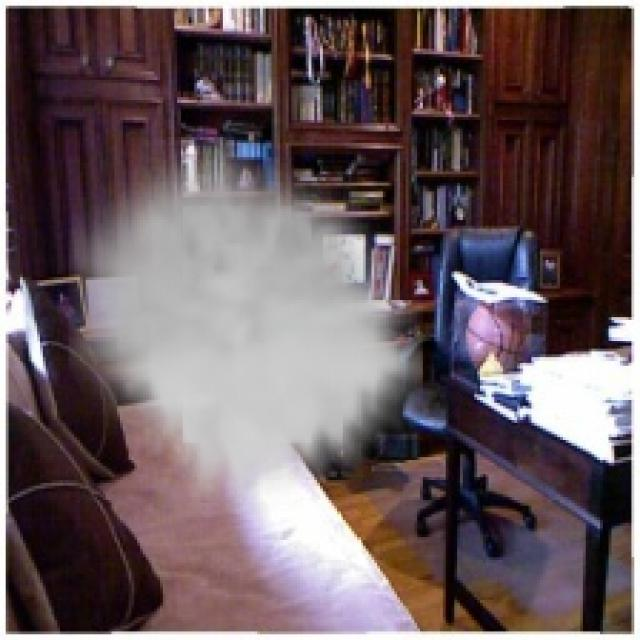smoke: (68, 137, 423, 514)
